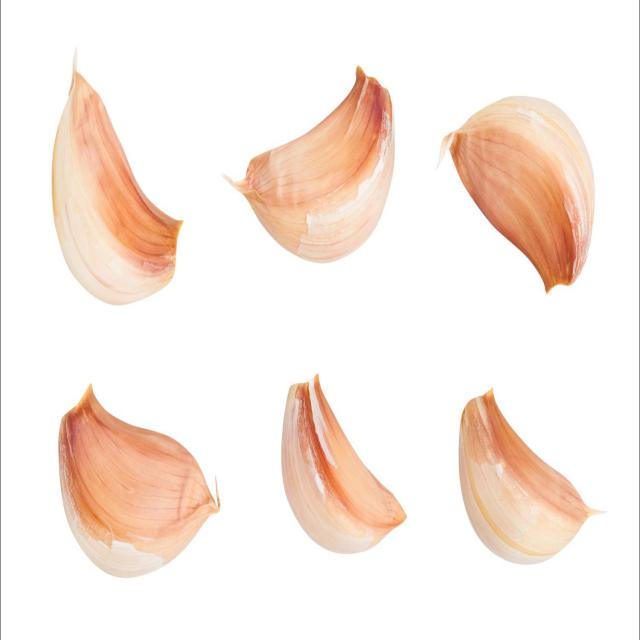garlic: (42, 66, 183, 308), (54, 377, 222, 578), (226, 66, 396, 263), (444, 92, 599, 295), (278, 368, 409, 560), (456, 389, 592, 569)
